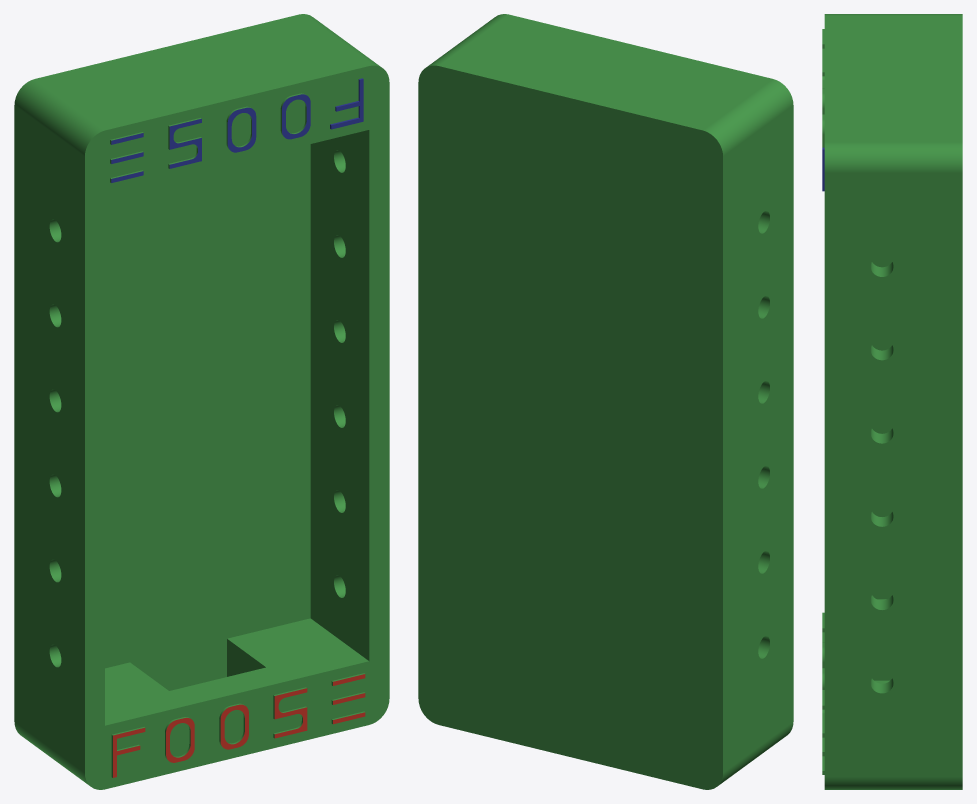
File: foosball_table.fbx
The picture shows the model from 3 angles, left to right: view 1: azimuth 30°, elevation 25°; view 2: azimuth 150°, elevation 25°; view 3: azimuth 270°, elevation 25°; orthographic projection. The views are drawn at different scales.
Parts seen in each view (by area): view 1: Body1; view 2: Body1; view 3: Body1.
Part boxes in pixels (x1=…): Body1: x1=14, y1=14, x2=389, y2=789; Body1: x1=418, y1=14, x2=793, y2=789; Body1: x1=822, y1=14, x2=962, y2=789.
Bounding box in the file's own units: 15 × 31 × 6.1.
